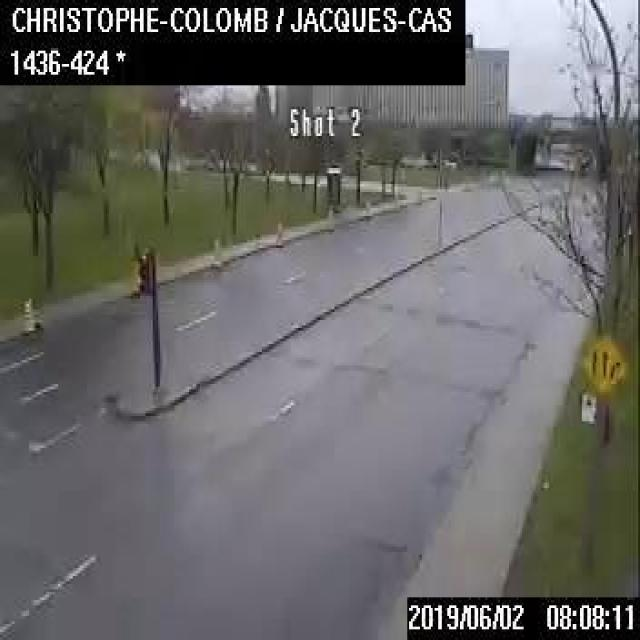construction: (127, 259, 140, 296), (22, 296, 31, 331), (274, 216, 282, 248), (212, 235, 219, 265), (325, 203, 333, 229), (364, 198, 371, 222)
